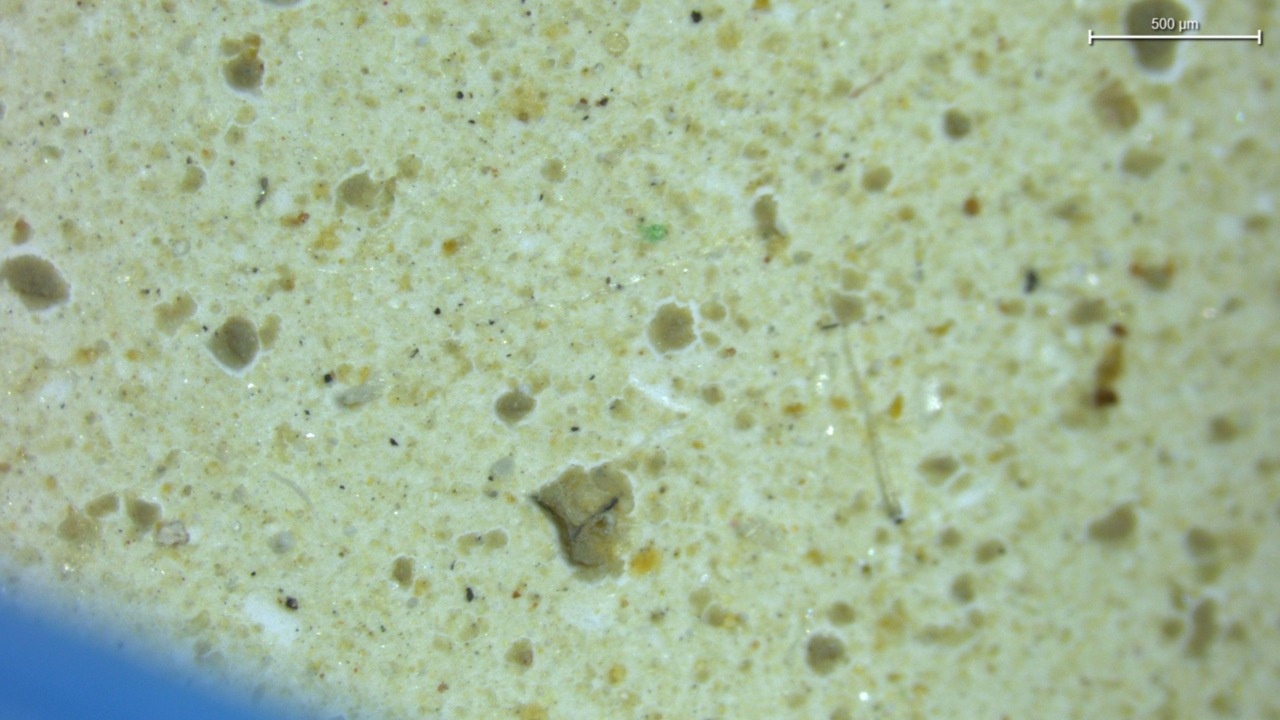microplastic_fragment: (533, 465, 634, 567), (336, 383, 384, 407)
